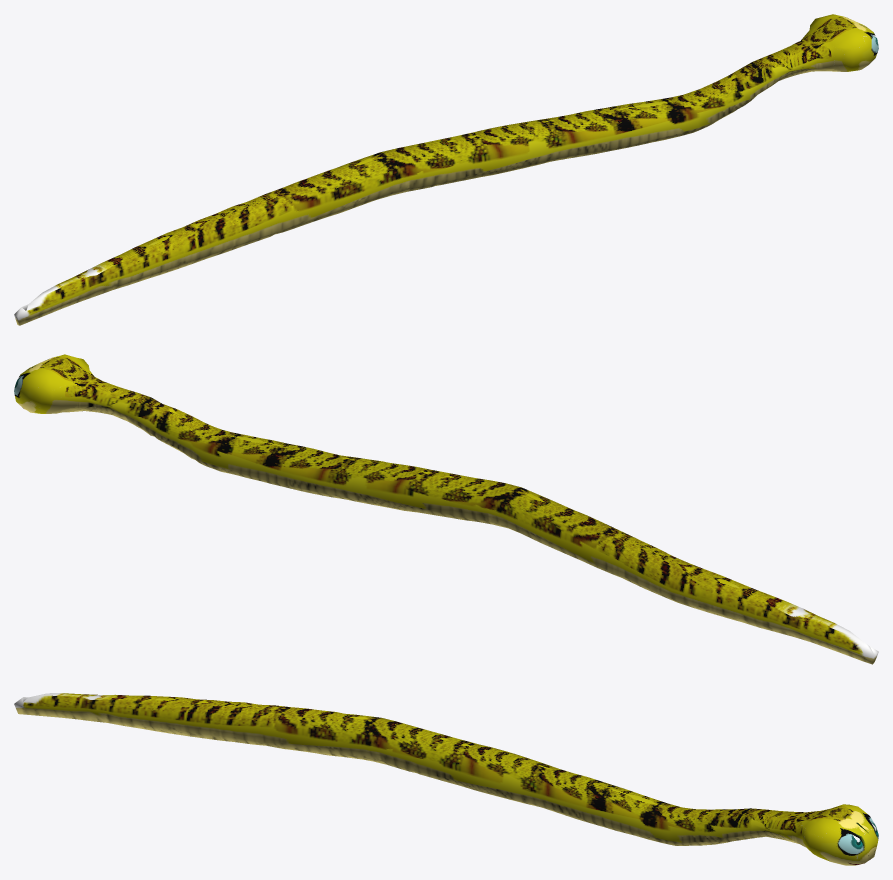
The model's file is snake_aug_3.obj.
The picture shows the model from 3 angles, top to bottom: view 1: azimuth 30°, elevation 25°; view 2: azimuth 150°, elevation 25°; view 3: azimuth 330°, elevation 25°; orthographic projection.
Size of the model in its own units: 96.75 by 11.04 by 7.96.
1 material, 1 textured.
